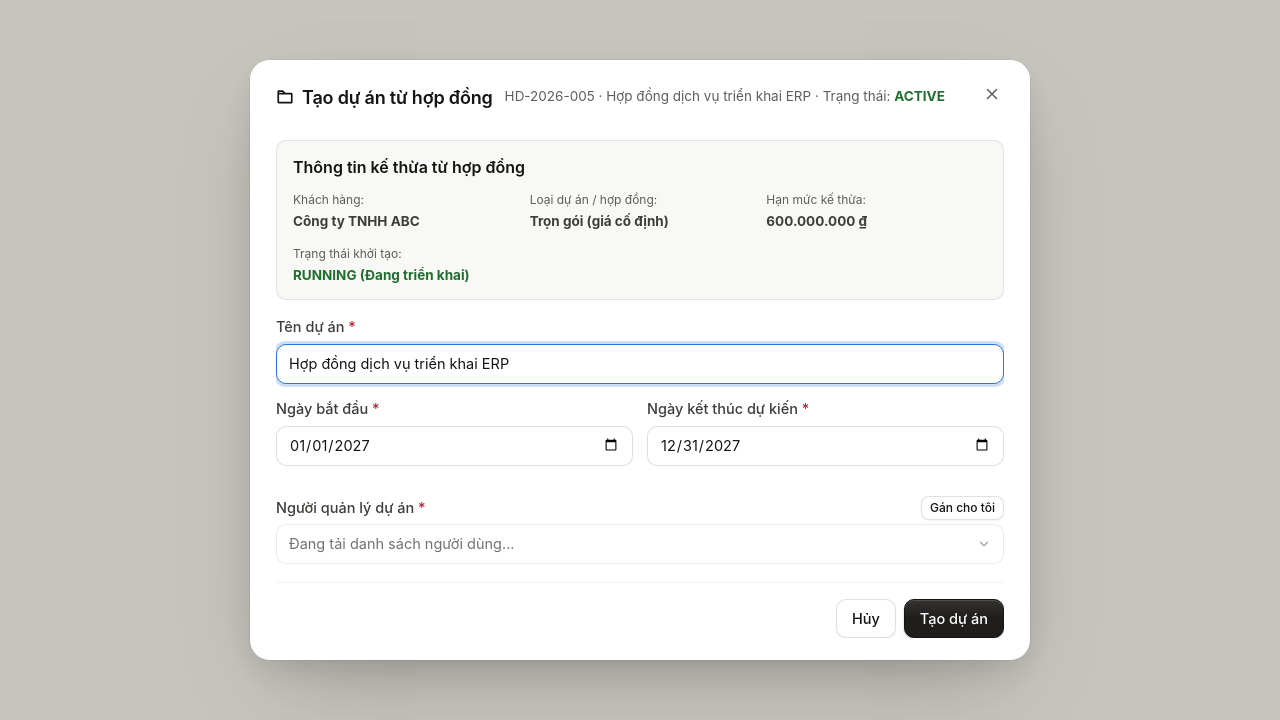
Test: CreateProjectModal (NCL-05-CN-001 — Tạo dự án từ hợp đồng) › TC-03b: Báo lỗi validation khi thiếu ngày bắt đầu hoặc ngày kết thúc dự kiến
Clear the date field labelled "Ngày bắt đầu *" at (454, 446), box [276, 426, 633, 466]
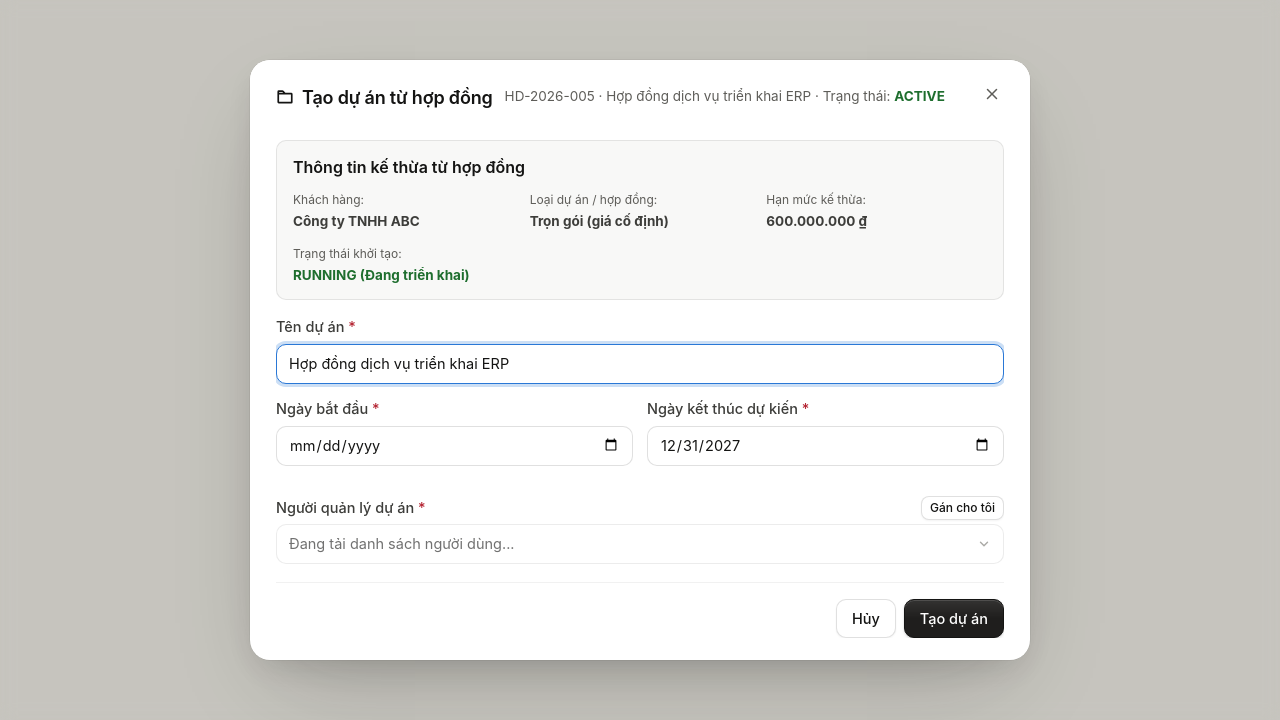
Clear the date field labelled "Ngày kết thúc dự kiến *" at (826, 446), box [647, 426, 1004, 466]
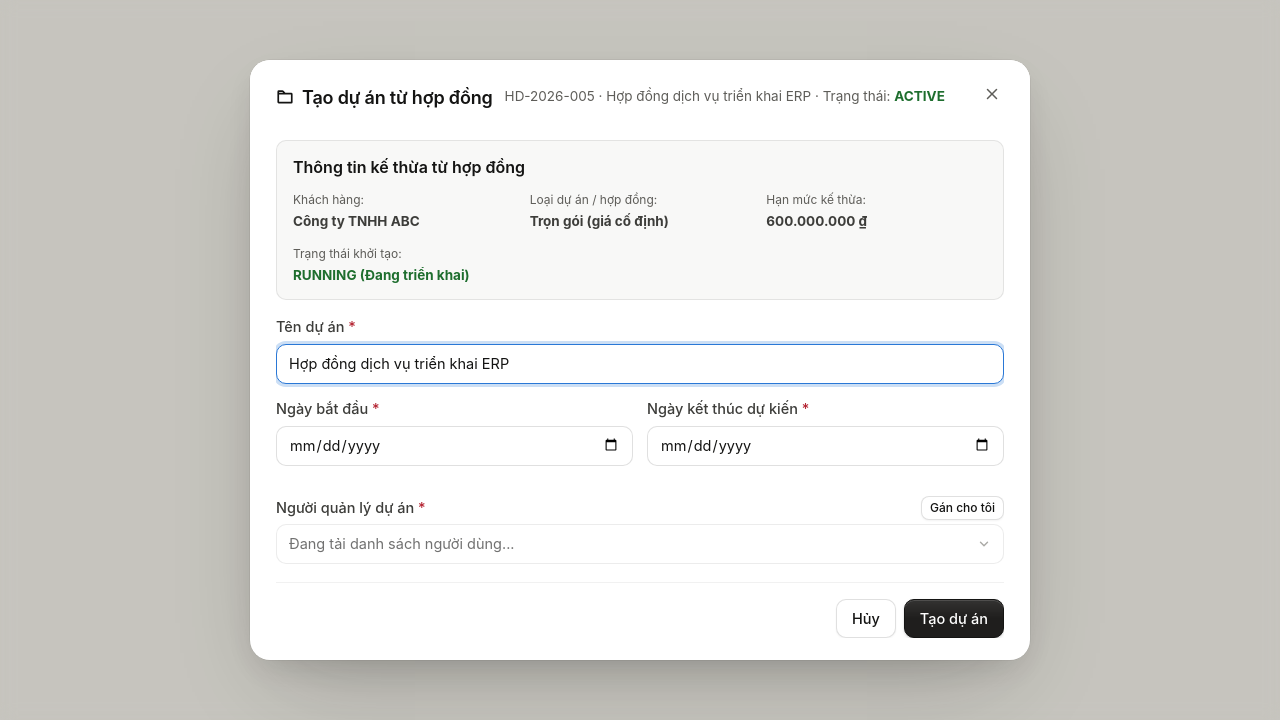
Click the button with test id "submit-create-project-btn" at (954, 618), box [904, 598, 1004, 638]
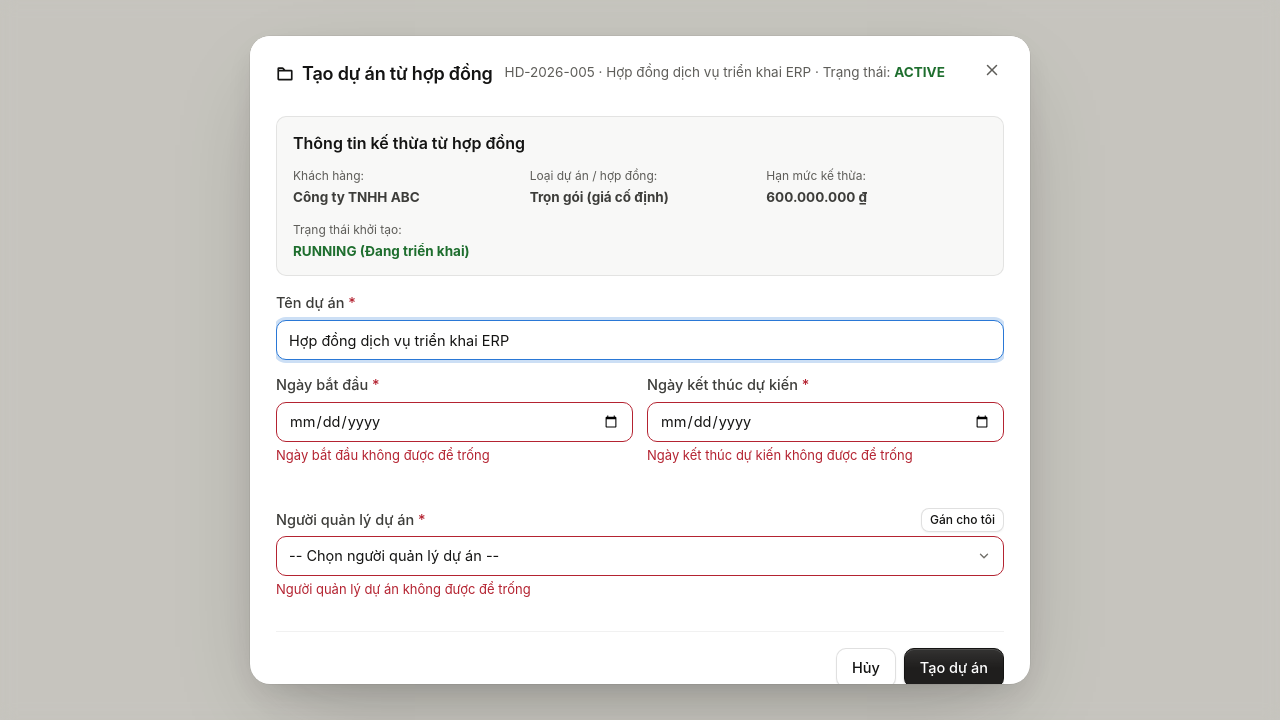
expect the text with test id "error-start-date" reads "Ngày bắt đầu không được để trống": met, box [276, 447, 490, 463]
expect the text with test id "error-expected-end-date" reads "Ngày kết thúc dự kiến không được để trống": met, box [647, 447, 913, 463]
